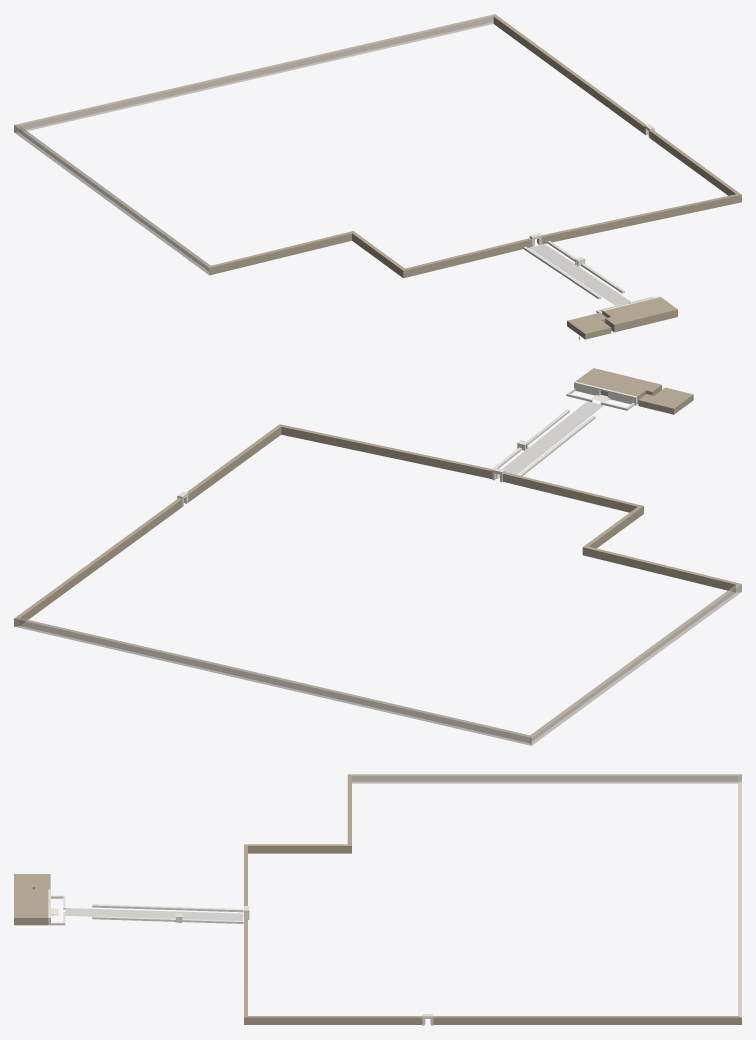
File: Serapeum_LP.glb
3 renders of one model, top to bottom at view 1: azimuth 30°, elevation 25°; view 2: azimuth 150°, elevation 25°; view 3: azimuth 270°, elevation 25°, orthographic. The views are drawn at different scales.
Parts seen in each view (by area): view 1: Mesh3 Model, Mesh6 Model, Mesh8 Model, Mesh7 Model; view 2: Mesh3 Model, Mesh6 Model, Mesh8 Model, Mesh7 Model; view 3: Mesh3 Model, Mesh6 Model, Mesh8 Model, Mesh5 Model, Mesh7 Model.
Part boxes in pixels (x1,y1,x2,y2): Mesh3 Model: [14, 14, 741, 278]; Mesh6 Model: [596, 296, 677, 332]; Mesh8 Model: [529, 244, 630, 305]; Mesh7 Model: [567, 312, 611, 339]; Mesh3 Model: [14, 424, 741, 745]; Mesh6 Model: [566, 368, 661, 410]; Mesh8 Model: [498, 401, 603, 478]; Mesh7 Model: [638, 387, 693, 414]; Mesh3 Model: [244, 774, 741, 1025]; Mesh6 Model: [14, 886, 65, 925]; Mesh8 Model: [65, 908, 243, 920]; Mesh5 Model: [92, 904, 243, 912]; Mesh7 Model: [14, 874, 50, 889].
Bounding box in the file's own units: 271 × 10.5 × 351.
